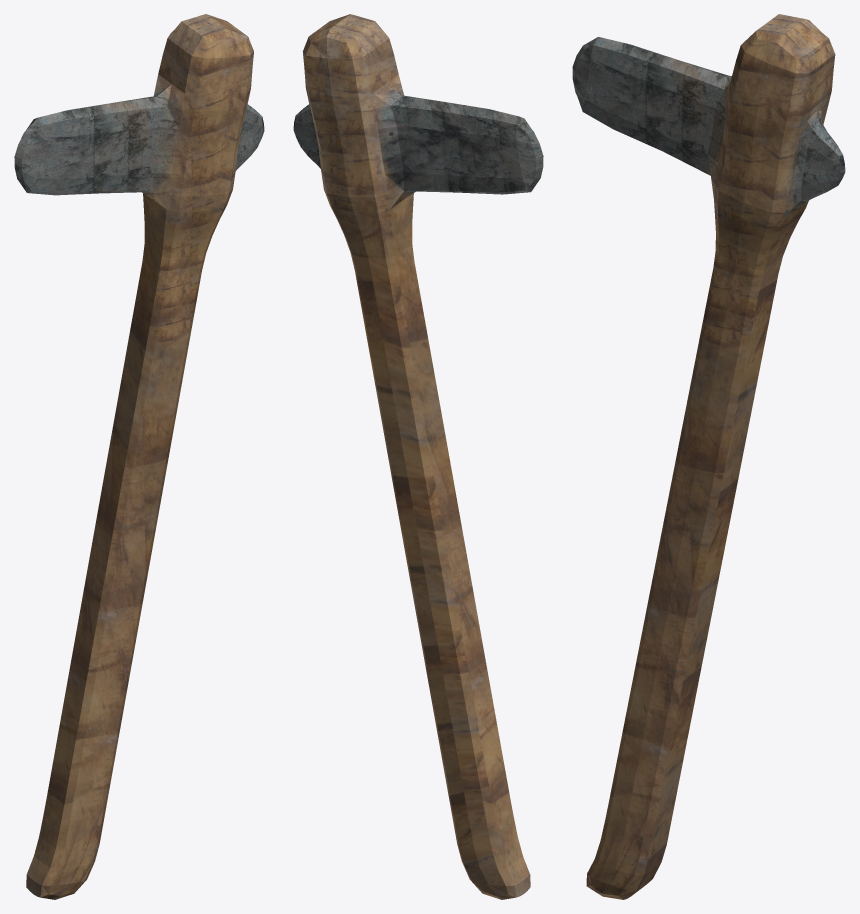
Rendered from flintAxe.obj.
The picture shows the model from 3 angles, left to right: view 1: azimuth 30°, elevation 25°; view 2: azimuth 150°, elevation 25°; view 3: azimuth 330°, elevation 25°; orthographic projection. The views are drawn at different scales.
Visible parts, largest first — view 1: Cube; view 2: Cube; view 3: Cube.
Part boxes in pixels (box(x1,y1,x2,y2)): Cube: box(14, 14, 264, 899); Cube: box(293, 14, 543, 899); Cube: box(572, 14, 845, 899).
Size of the model in its own units: 4.2 by 13.41 by 1.17.
1 material, 1 textured.
